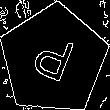P_S: (28, 29, 80, 90)
